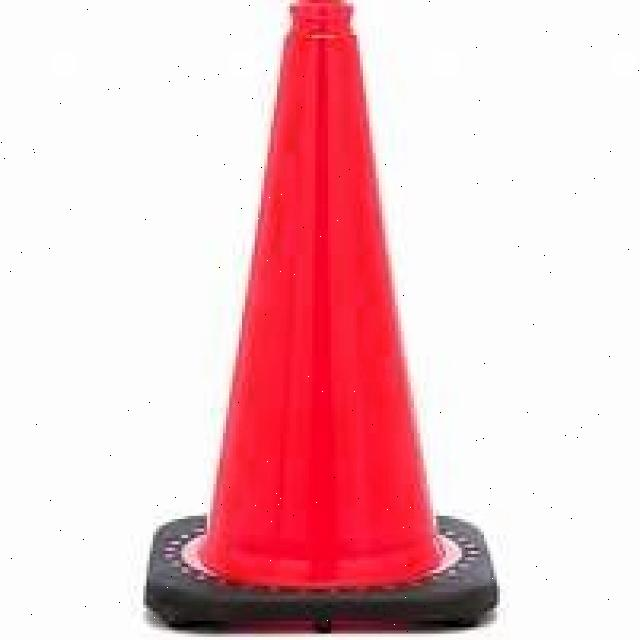traffic cone: (131, 2, 511, 640)
